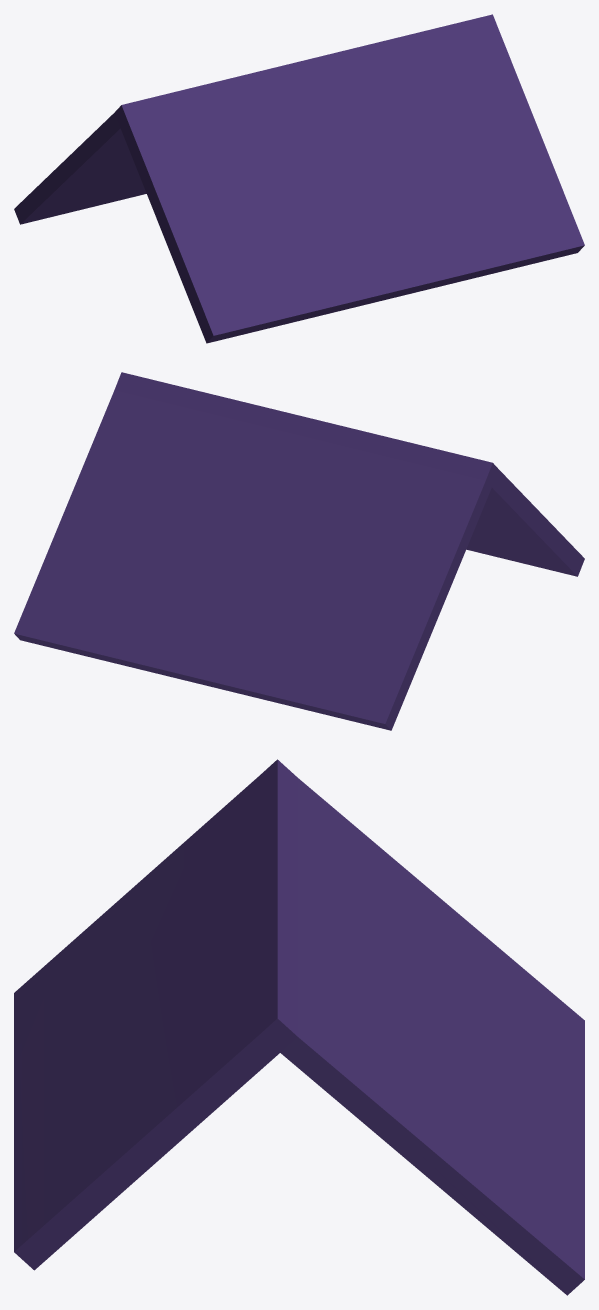
The model's file is CasaAzul_6.FBX.
The picture shows the model from 3 angles, top to bottom: view 1: azimuth 30°, elevation 25°; view 2: azimuth 150°, elevation 25°; view 3: azimuth 270°, elevation 25°; orthographic projection. The views are drawn at different scales.
Visible parts, largest first — view 1: CasaAzul_6; view 2: CasaAzul_6; view 3: CasaAzul_6.
Part boxes in pixels (x1,y1,x2,y2): CasaAzul_6: [14, 14, 584, 343]; CasaAzul_6: [14, 372, 584, 730]; CasaAzul_6: [14, 759, 584, 1295].
Size of the model in its own units: 48.93 by 24.42 by 45.57.
